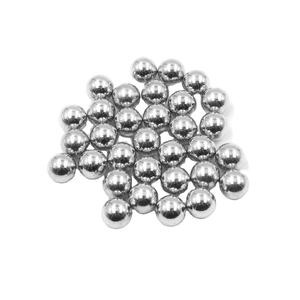ironball: (154, 194, 185, 226), (101, 197, 132, 228), (218, 168, 248, 199), (185, 187, 215, 218), (47, 152, 76, 183), (128, 182, 157, 213), (189, 160, 219, 189), (77, 149, 106, 179), (160, 165, 189, 194), (102, 168, 131, 196), (132, 155, 161, 183), (186, 134, 216, 161), (158, 139, 186, 166), (89, 122, 117, 149), (107, 141, 135, 168), (142, 103, 170, 130), (60, 128, 89, 154), (168, 114, 197, 140), (114, 106, 142, 132), (132, 126, 159, 152), (140, 79, 168, 104), (86, 98, 114, 123), (167, 89, 195, 114), (131, 56, 157, 82), (87, 74, 113, 100), (215, 142, 241, 168), (157, 58, 184, 83), (199, 111, 224, 138), (112, 82, 139, 107), (181, 69, 207, 94), (60, 104, 86, 129), (200, 87, 225, 111)
